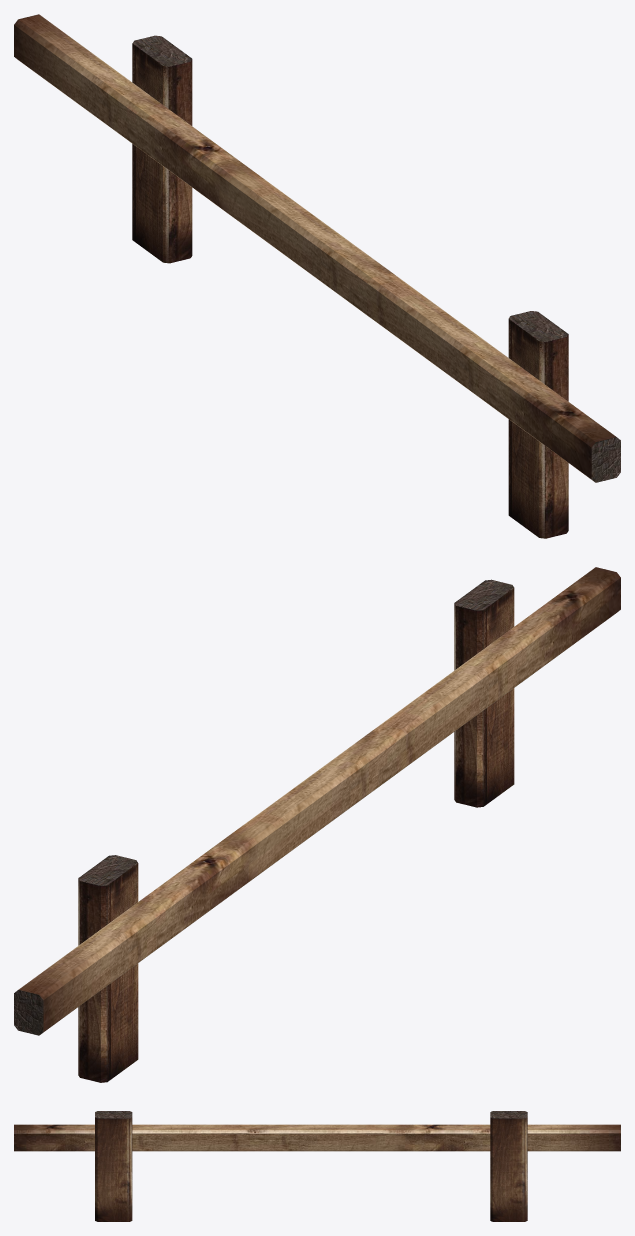
Rendered from woodfence.fbx.
3 renders of one model, top to bottom at view 1: azimuth 30°, elevation 25°; view 2: azimuth 150°, elevation 25°; view 3: azimuth 270°, elevation 25°, orthographic. The views are drawn at different scales.
Parts seen in each view (by area): view 1: wood_fence; view 2: wood_fence; view 3: wood_fence.
Part boxes in pixels (x1,y1,x2,y2): wood_fence: [14, 14, 620, 538]; wood_fence: [14, 567, 620, 1082]; wood_fence: [14, 1111, 620, 1221].
Bounding box in the file's own units: 0.4496 × 1.5 × 7.97.
